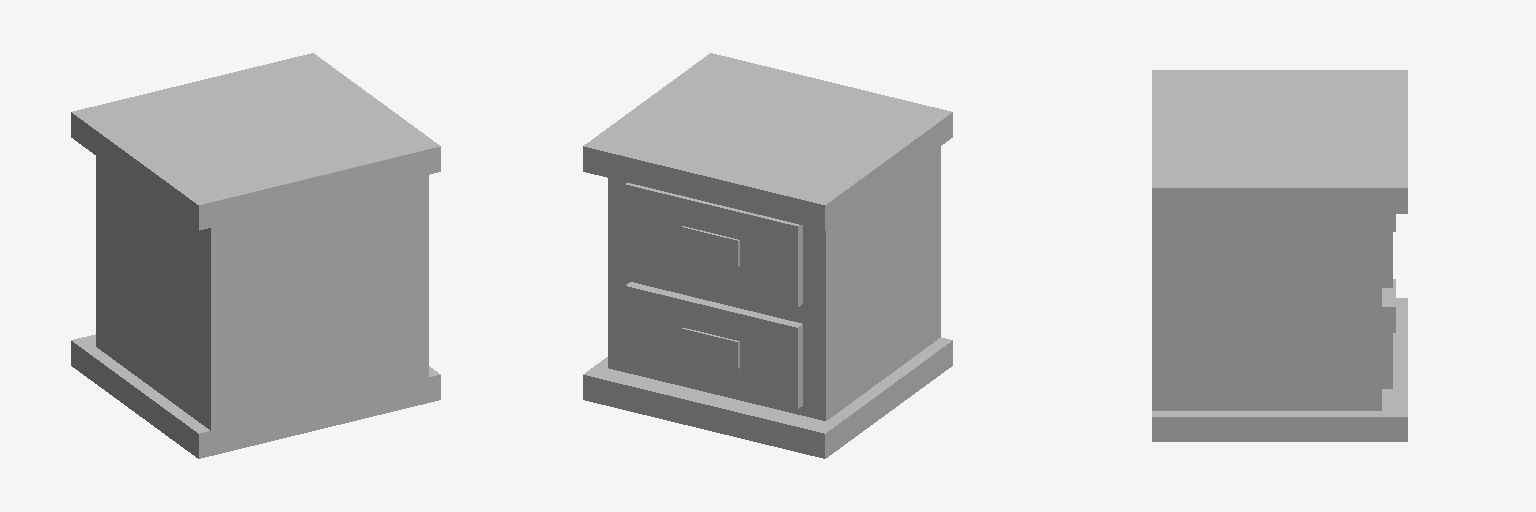
Rendered from nightstand.obj.
3 views of the same model, side by side, from view 1: azimuth 30°, elevation 25°; view 2: azimuth 150°, elevation 25°; view 3: azimuth 270°, elevation 25° (orthographic).
Visible parts, largest first — view 1: Cube_Cube.001; view 2: Cube_Cube.001; view 3: Cube_Cube.001.
Boxes of the visible parts, x1=… form: Cube_Cube.001: x1=71, y1=53, x2=440, y2=458; Cube_Cube.001: x1=583, y1=53, x2=952, y2=458; Cube_Cube.001: x1=1152, y1=70, x2=1407, y2=441.
Size of the model in its own units: 1 by 1 by 0.9124.